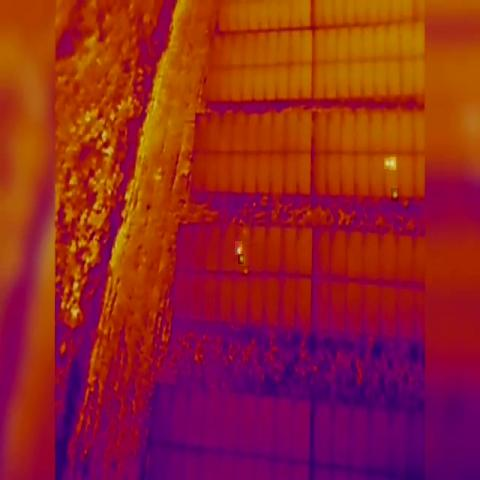fault: (391, 188, 399, 202), (235, 241, 242, 255), (389, 157, 396, 170), (384, 158, 391, 169), (242, 266, 249, 275), (239, 254, 244, 264)
